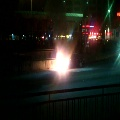fire: (50, 50, 69, 74)
